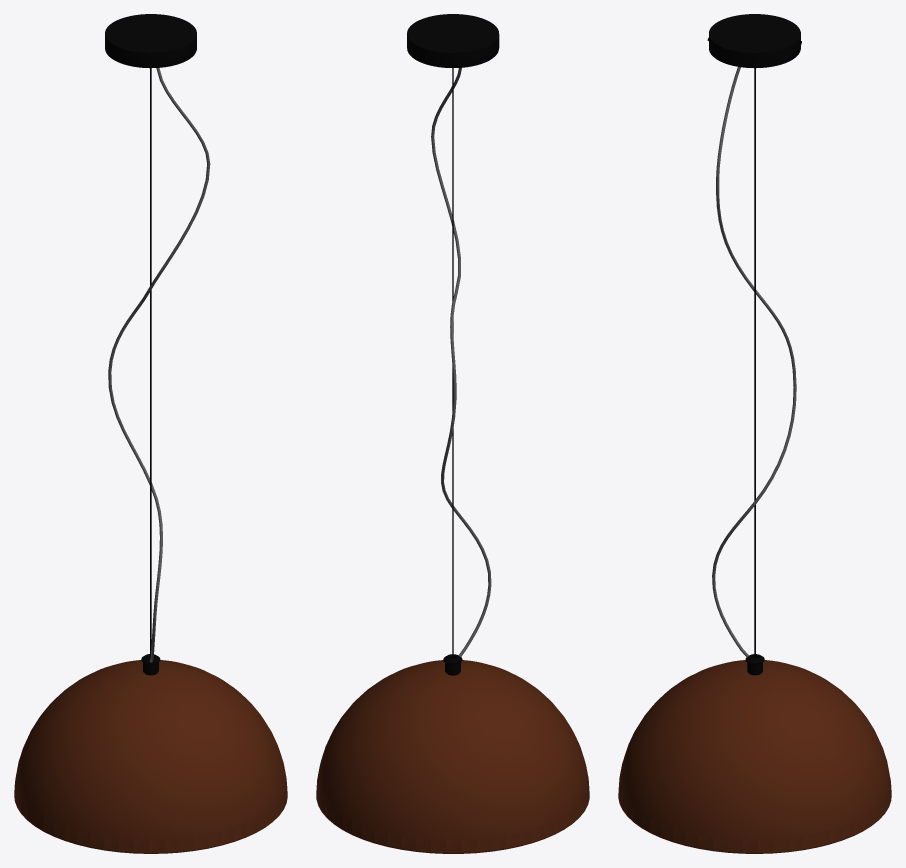
File: lampSchool.FBX
The picture shows the model from 3 angles, left to right: view 1: azimuth 30°, elevation 25°; view 2: azimuth 150°, elevation 25°; view 3: azimuth 270°, elevation 25°; orthographic projection.
Parts seen in each view (by area): view 1: Sphere002, Cylinder091, Line002, Cylinder089; view 2: Sphere002, Cylinder091, Line002, Cylinder089; view 3: Sphere002, Cylinder091, Line002, Cylinder089.
Boxes of the visible parts, x1,y1,x2,y2 form: Sphere002: [14, 660, 287, 853]; Cylinder091: [105, 14, 196, 68]; Line002: [108, 68, 210, 662]; Cylinder089: [150, 68, 151, 658]; Sphere002: [316, 660, 589, 853]; Cylinder091: [407, 14, 499, 67]; Line002: [431, 68, 491, 656]; Cylinder089: [452, 68, 453, 658]; Sphere002: [618, 660, 891, 853]; Cylinder091: [709, 14, 800, 68]; Line002: [712, 67, 796, 657]; Cylinder089: [754, 68, 755, 658].
Bounding box in the file's own units: 483 × 1489 × 483.
